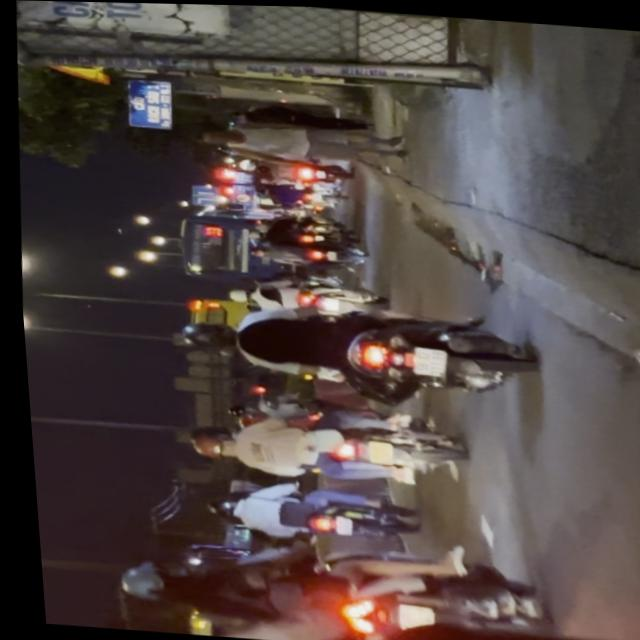helmet: (106, 558, 193, 608), (173, 320, 230, 352)
licenseplate: (96, 523, 544, 640), (33, 570, 640, 640), (167, 290, 532, 404)
nohelmet: (405, 345, 442, 375), (387, 602, 425, 629)
